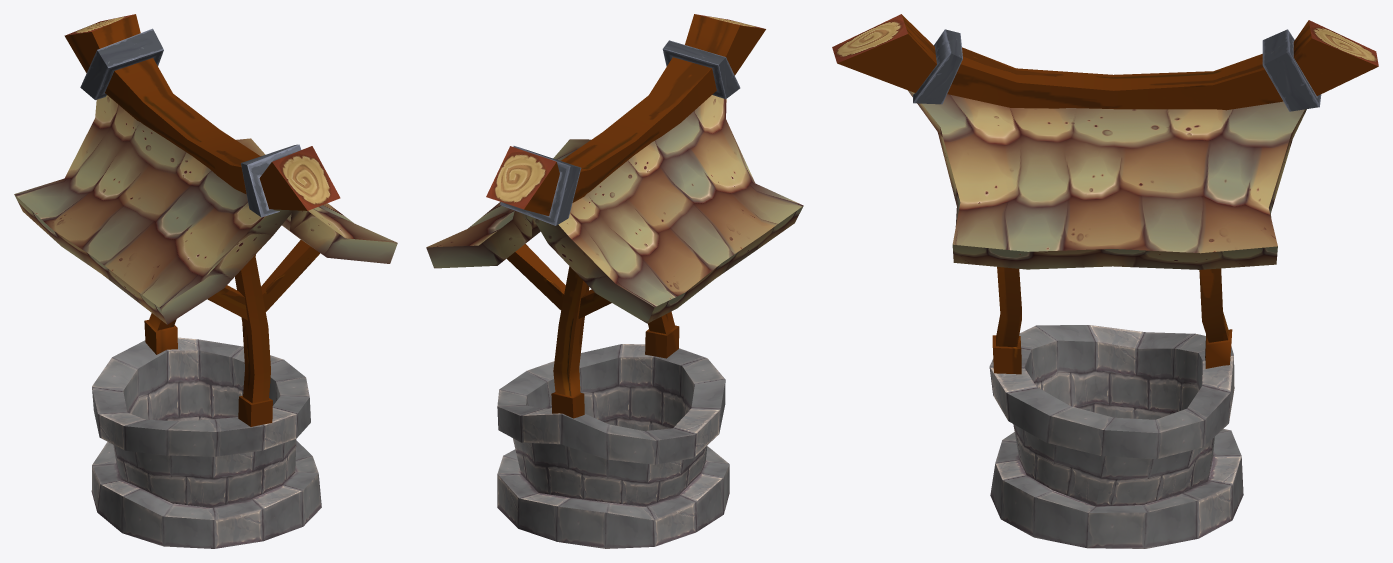
The model's file is Pozo.fbx.
3 views of the same model, side by side, from view 1: azimuth 30°, elevation 25°; view 2: azimuth 150°, elevation 25°; view 3: azimuth 270°, elevation 25° (orthographic). The views are drawn at different scales.
Visible parts, largest first — view 1: Pozo; view 2: Pozo; view 3: Pozo.
Part boxes in pixels (box(x1,y1,x2,y2)): Pozo: box(14, 14, 397, 548); Pozo: box(426, 14, 803, 548); Pozo: box(832, 14, 1378, 548).
Size of the model in its own units: 250 by 424 by 448.
